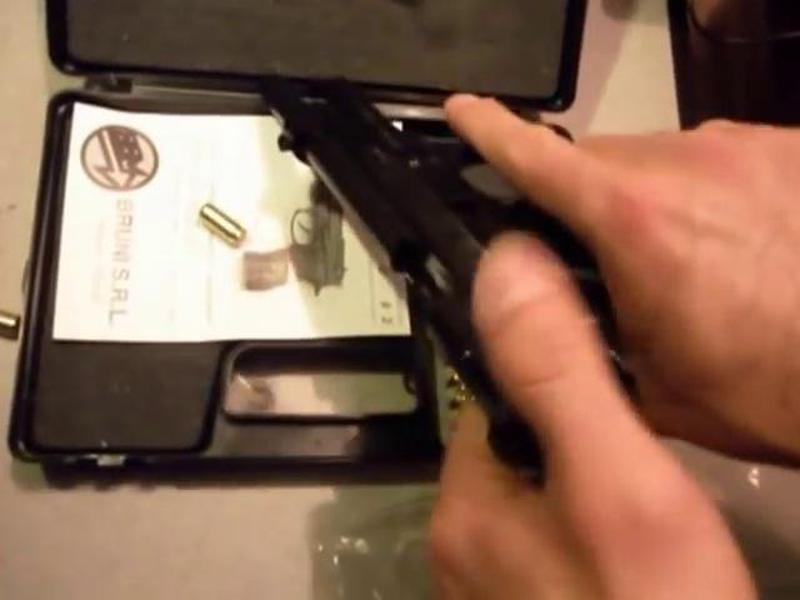Pistola: (249, 60, 646, 483)
